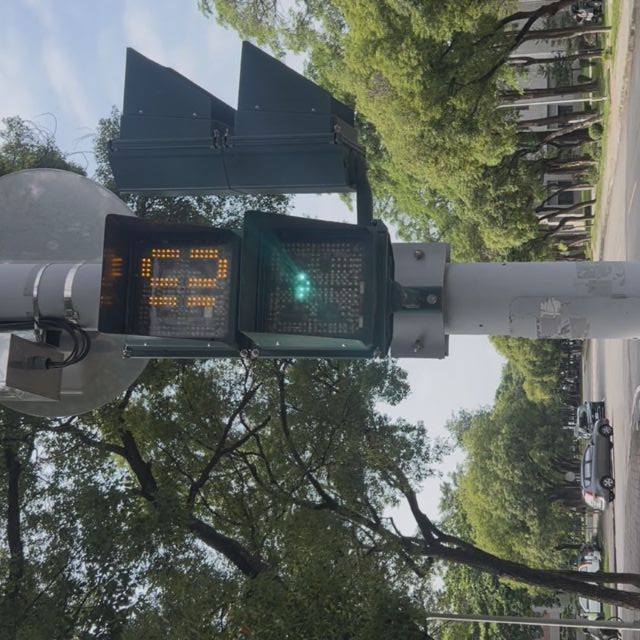green_light: (100, 212, 393, 354)
